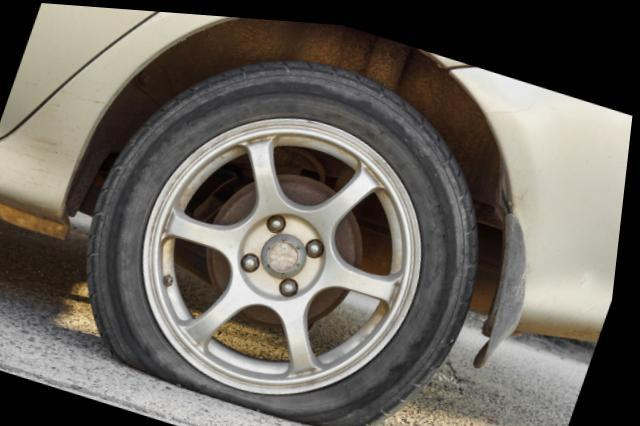tire flat: (93, 53, 484, 425)
